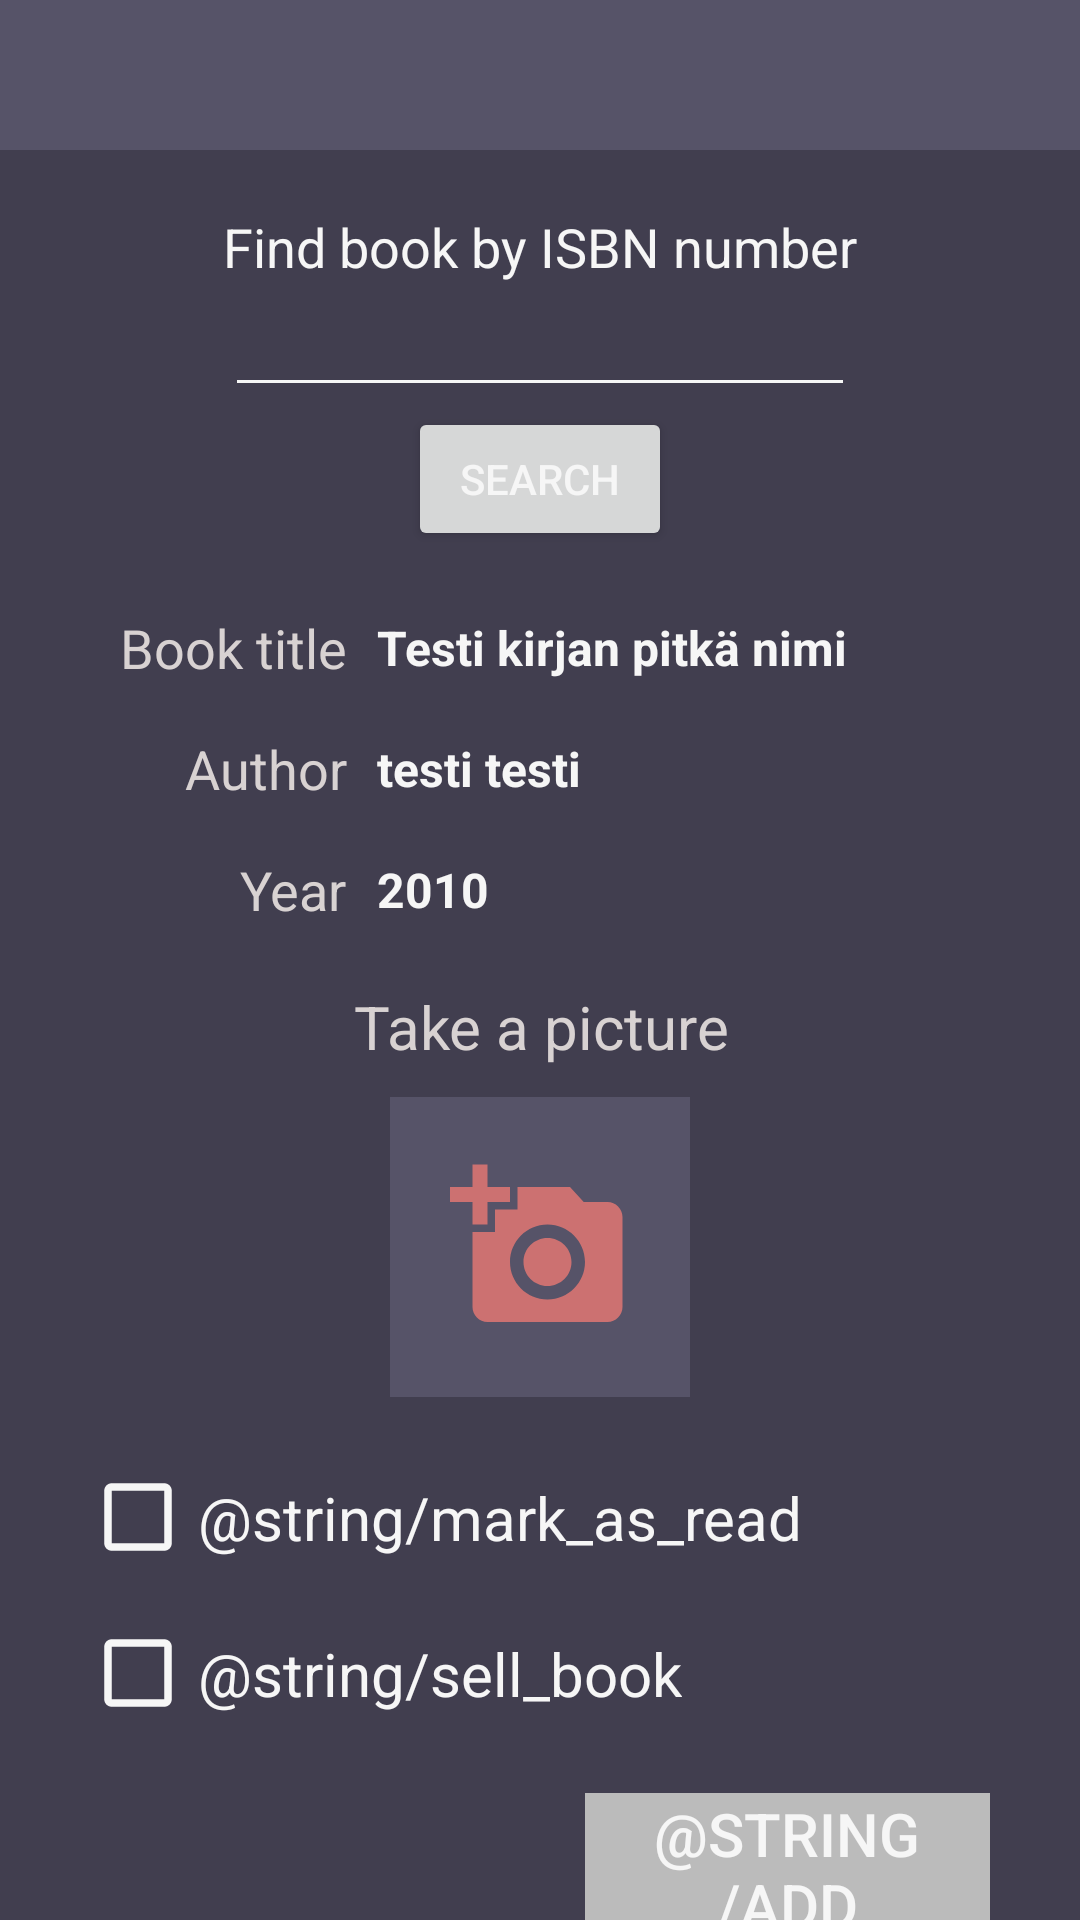

Screen size 1080px×1920px. Icon name, then its center in pixels as (x,y):
add photo: (540,1247)
